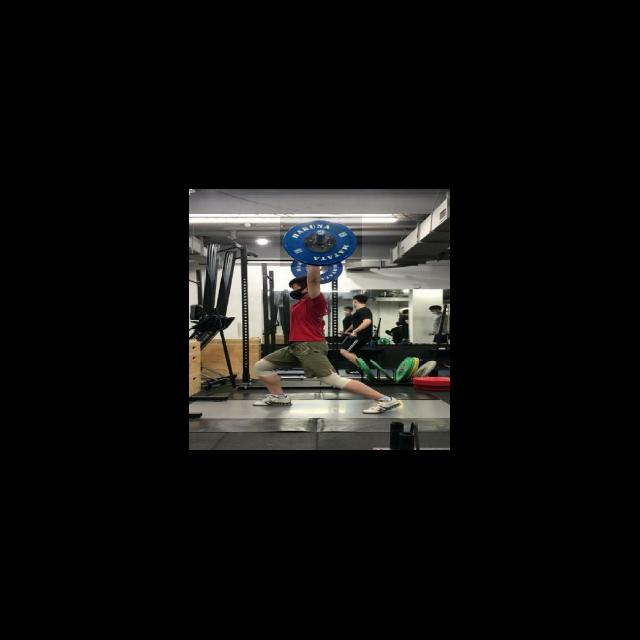barbell: (280, 216, 362, 267)
